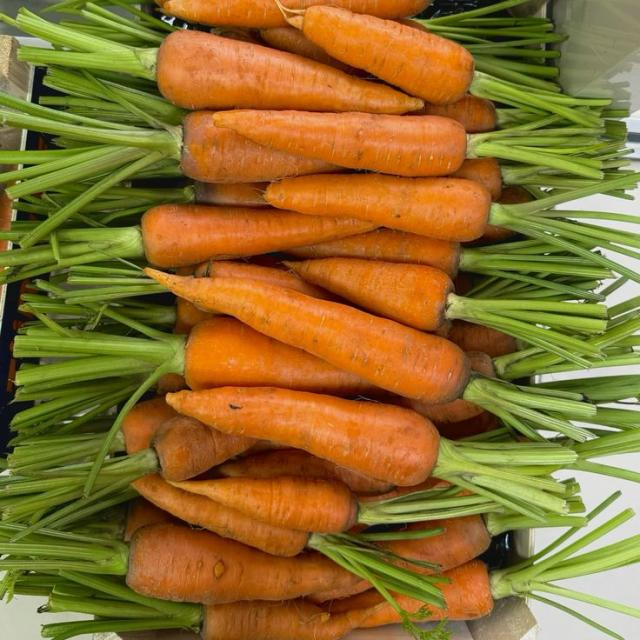carrot: (146, 269, 594, 438), (167, 388, 576, 513), (147, 269, 470, 402), (19, 12, 423, 113), (287, 258, 606, 359), (2, 204, 377, 280), (167, 387, 439, 486), (266, 174, 638, 240), (43, 572, 378, 639), (154, 31, 423, 113), (287, 6, 473, 104), (127, 526, 352, 603), (214, 110, 466, 176), (266, 174, 491, 240), (180, 111, 335, 206), (141, 205, 376, 267), (183, 318, 373, 394), (133, 474, 308, 556), (287, 228, 558, 279), (286, 258, 453, 331), (172, 475, 358, 533), (122, 398, 253, 480), (287, 228, 463, 277), (214, 449, 392, 497), (200, 599, 378, 639), (151, 416, 253, 480), (380, 516, 491, 571), (194, 260, 335, 299), (260, 26, 353, 73), (420, 560, 493, 619), (122, 397, 178, 453), (421, 94, 496, 133), (281, 0, 430, 19), (403, 399, 486, 433), (448, 320, 517, 358), (123, 498, 179, 541), (451, 158, 502, 201), (194, 181, 267, 208), (435, 411, 499, 439), (174, 298, 218, 334), (463, 225, 514, 246), (156, 374, 187, 395)
